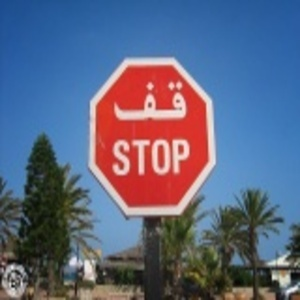stop: (89, 56, 218, 218)
